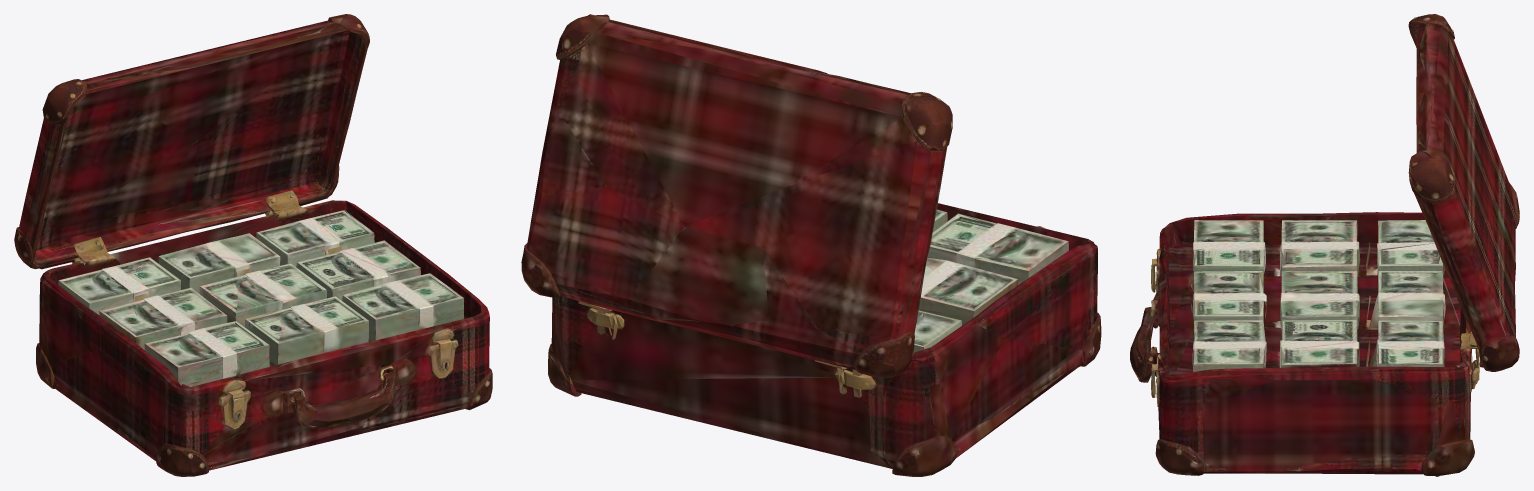
The model's file is suitcase.glb.
The picture shows the model from 3 angles, left to right: view 1: azimuth 30°, elevation 25°; view 2: azimuth 150°, elevation 25°; view 3: azimuth 270°, elevation 25°; orthographic projection. The views are drawn at different scales.
Parts seen in each view (by area): view 1: Mesh_0; view 2: Mesh_0; view 3: Mesh_0.
Part boxes in pixels (box(x1,y1,x2,y2)): Mesh_0: box(14, 14, 492, 476); Mesh_0: box(521, 14, 1101, 476); Mesh_0: box(1130, 14, 1519, 476).
Bounding box in the file's own units: 0.62 × 0.5492 × 0.6169.
Materials: 1 (1 with a texture image).
